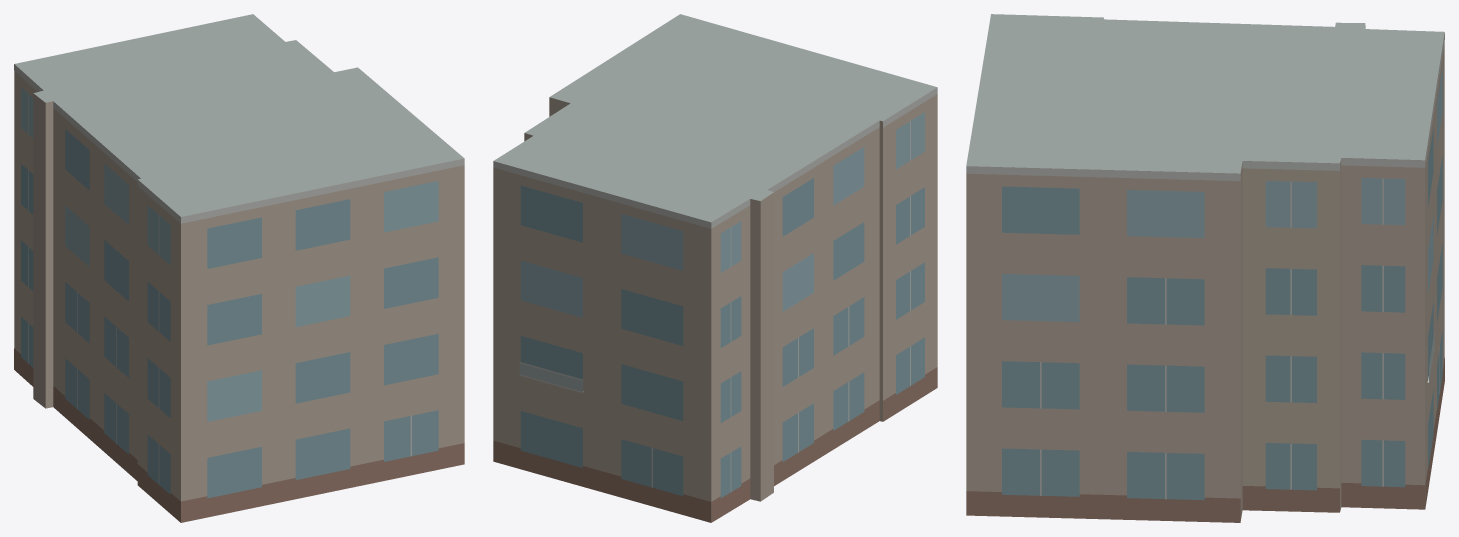
File: survey-upis-32674757.glb
The picture shows the model from 3 angles, left to right: view 1: azimuth 30°, elevation 25°; view 2: azimuth 150°, elevation 25°; view 3: azimuth 270°, elevation 25°; orthographic projection. The views are drawn at different scales.
Visible parts, largest first — view 1: survey-upis-32674757.tmp; view 2: survey-upis-32674757.tmp; view 3: survey-upis-32674757.tmp.
Boxes of the visible parts, x1,y1,x2,y2 form: survey-upis-32674757.tmp: (14, 14, 464, 522); survey-upis-32674757.tmp: (493, 14, 937, 522); survey-upis-32674757.tmp: (966, 14, 1444, 522).
Bounding box in the file's own units: 11.06 × 11.28 × 14.02.
